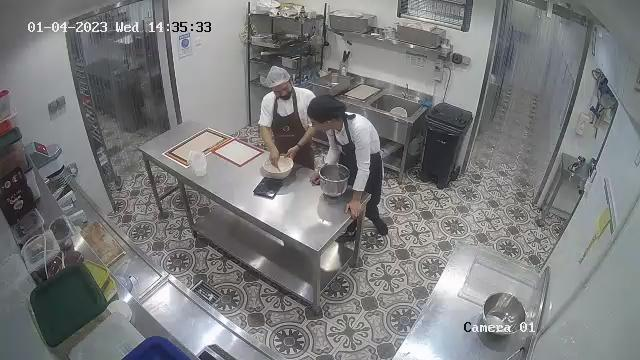apron: (339, 113, 382, 204), (266, 88, 312, 167)
